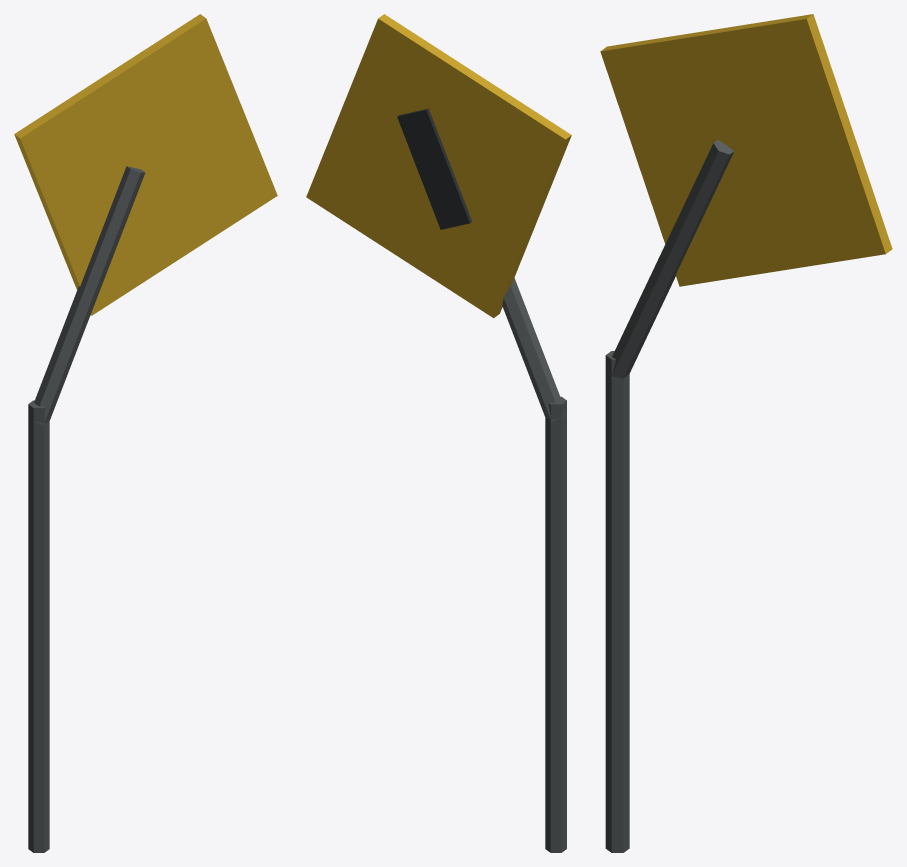
Rendered from Sign_Bent.fbx.
The picture shows the model from 3 angles, left to right: view 1: azimuth 30°, elevation 25°; view 2: azimuth 150°, elevation 25°; view 3: azimuth 330°, elevation 25°; orthographic projection. The views are drawn at different scales.
Parts seen in each view (by area): view 1: Sign_Bent; view 2: Sign_Bent; view 3: Sign_Bent.
Part boxes in pixels (left/top/right/bottom): Sign_Bent: left=14, top=14, right=277, bottom=852; Sign_Bent: left=306, top=14, right=571, bottom=852; Sign_Bent: left=600, top=14, right=892, bottom=852.
Size of the model in its own units: 0.969 by 2.83 by 0.1.
